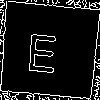E: (24, 24, 60, 74)
